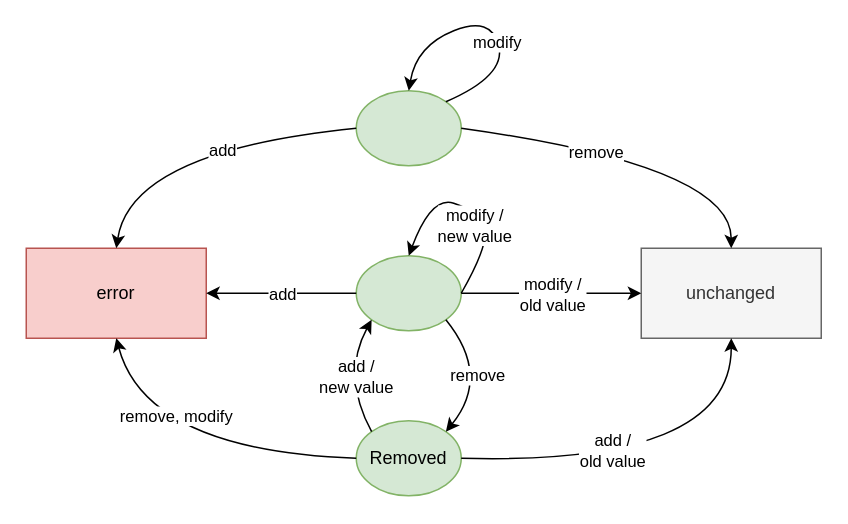
This 848x524 diagram has some shape labels left out. The box of each missing label's shape, as (x1, y1, x2, y2) in pixels:
Added: (355, 89, 461, 166)
Modified: (355, 254, 461, 331)
